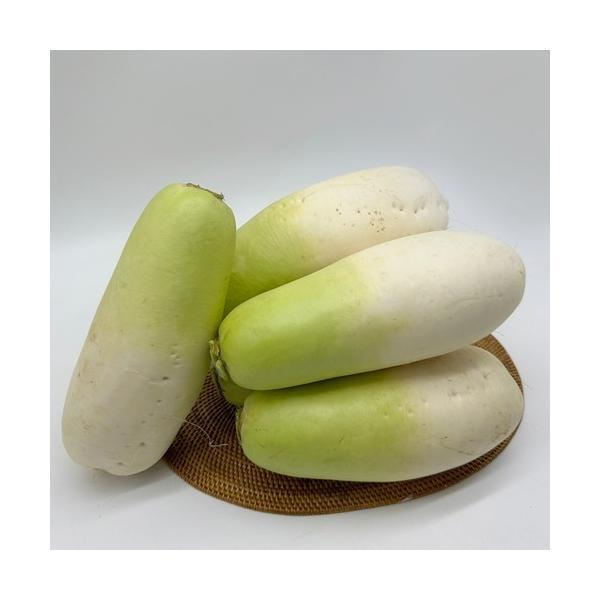radish: (219, 247, 490, 353), (219, 173, 430, 243)
